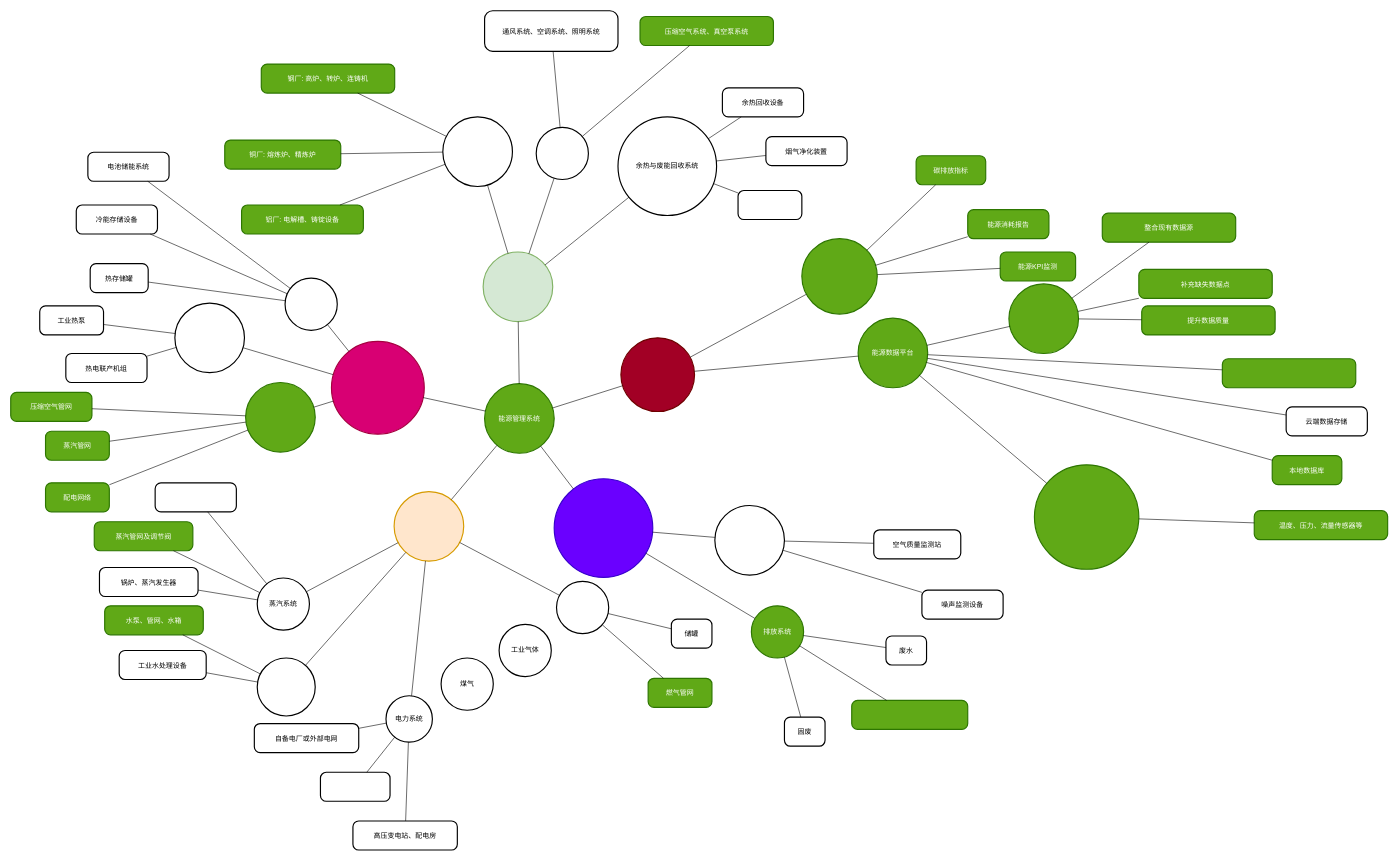
Some shapes in this 1398 by 860 pixel diagram are drawn without their labels. The centre of each missing label's shape, as x and y in pixels:
主要生产设备: point (477, 151)
余热锅炉: point (769, 205)
储能系统: point (311, 304)
分布式能源: point (355, 786)
多维度数据采集: point (1043, 318)
实时监测与传感器网络: point (1086, 517)
废气: CO₂、SO₂、NOₓ: point (909, 714)
数据接口: OPC UA, Modbus: point (1288, 373)
水资源系统: point (286, 686)
热力交换设备: point (195, 497)
燃料系统: point (582, 607)
环境监测与排放系统: point (603, 528)
环境监测系统: point (749, 540)
能源供给系统: point (428, 526)
能源分配系统: point (280, 417)
能源可视化: point (657, 374)
能源指标与报告: point (839, 276)
能源消费系统: point (517, 286)
能源转换与分配系统: point (378, 387)
能源转换设备: point (209, 337)
辅助设施: point (562, 153)
